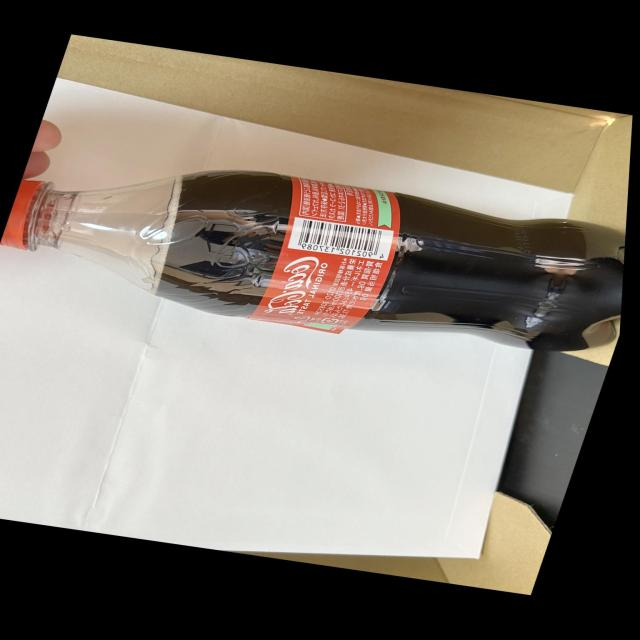high: (0, 170, 624, 351)
